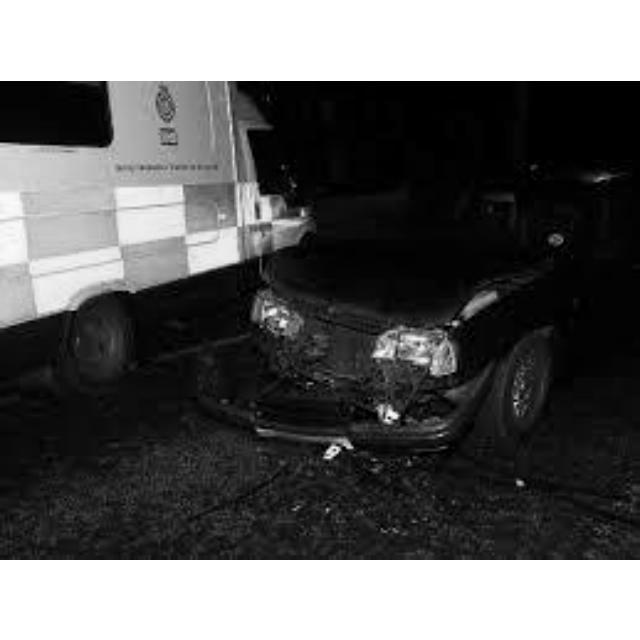front-bumper-dent: (269, 322, 427, 386)
